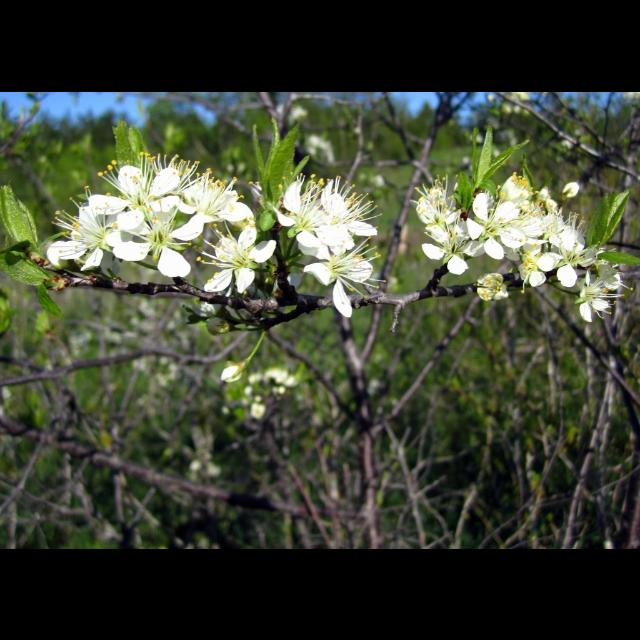Flower: (62, 144, 384, 316), (412, 170, 632, 322)
